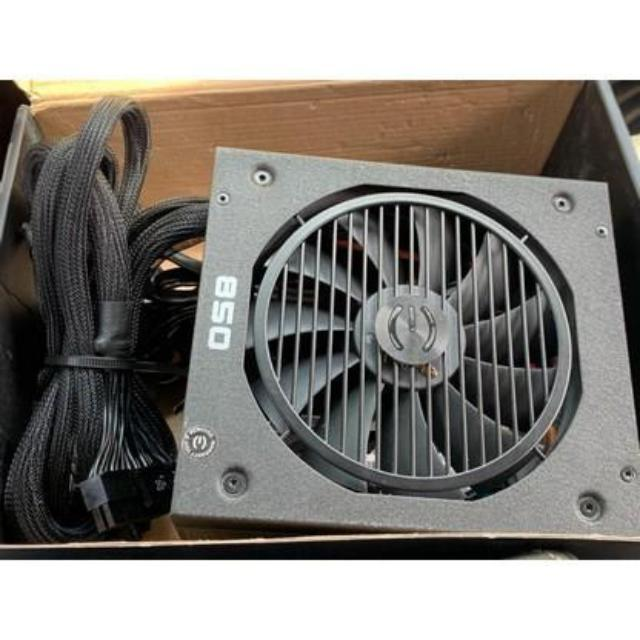PSU: (154, 126, 640, 546)
